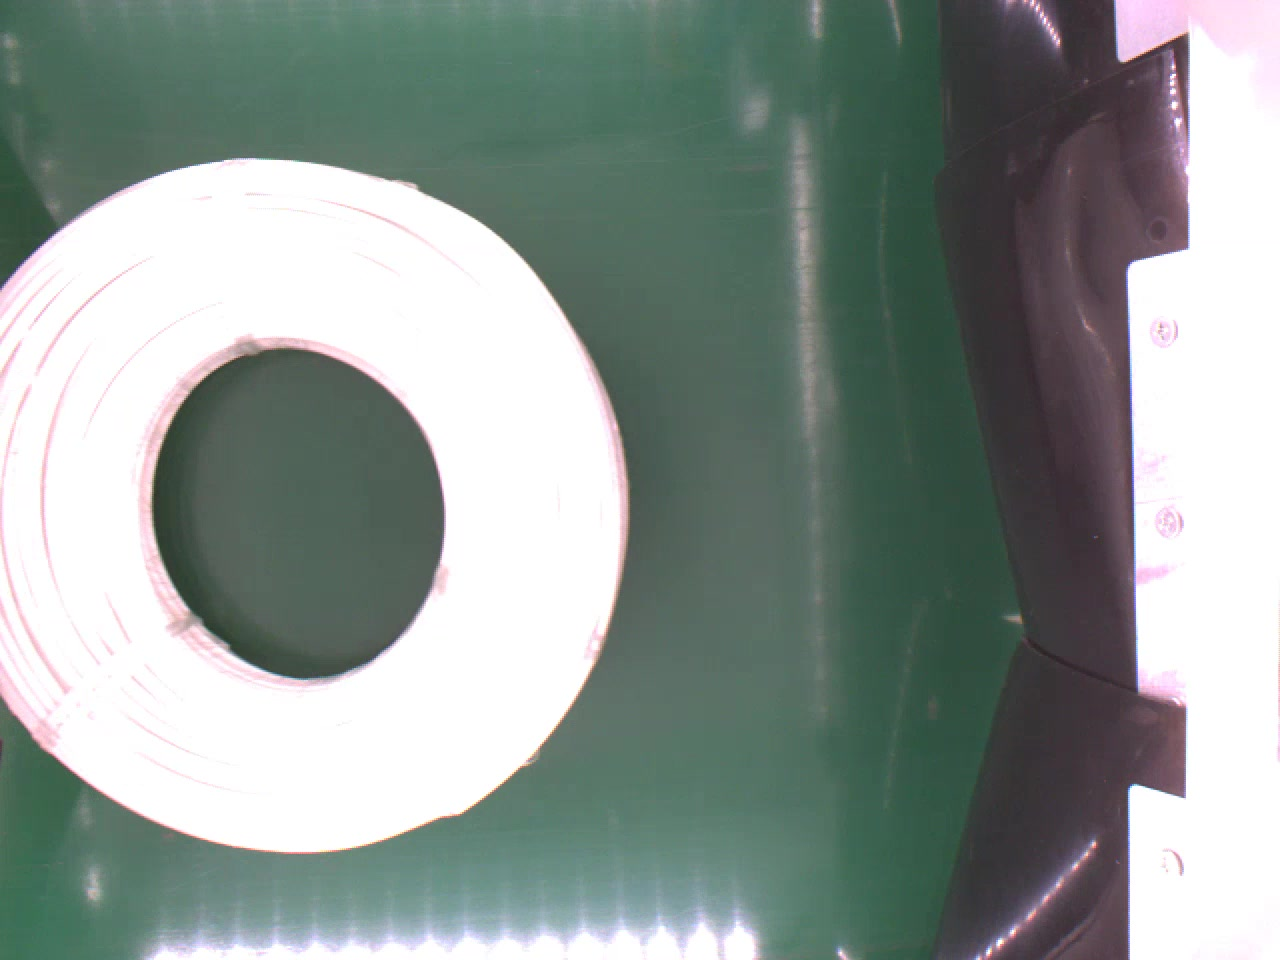white: (3, 152, 629, 857)
